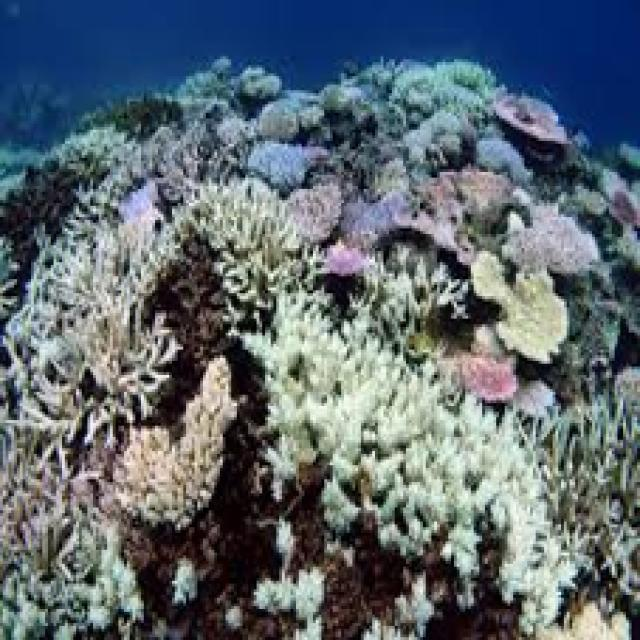Bleached: (1, 228, 157, 437), (351, 406, 535, 549), (270, 314, 369, 518), (120, 365, 230, 525), (186, 185, 299, 321), (1, 530, 137, 630), (494, 509, 571, 632), (349, 337, 428, 419), (541, 604, 633, 640), (256, 573, 323, 618), (398, 579, 433, 631), (362, 618, 413, 640), (171, 560, 192, 606)
Healthy: (476, 252, 569, 362), (502, 204, 596, 274), (497, 94, 572, 143), (454, 352, 522, 406), (477, 125, 536, 184), (249, 145, 320, 188), (299, 181, 345, 246), (426, 174, 511, 207), (350, 194, 404, 242), (317, 244, 373, 279), (604, 172, 640, 225), (116, 178, 156, 221)
